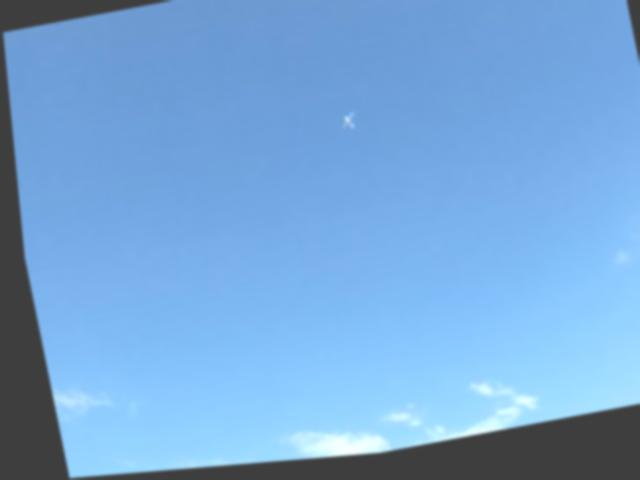uav: (331, 112, 360, 140)
